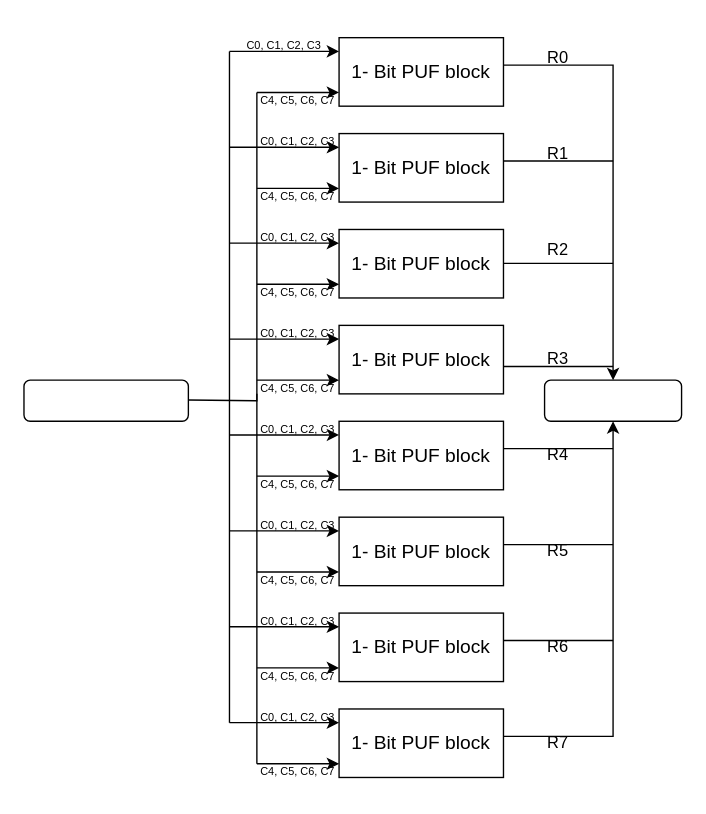
Some shapes in this 706 by 814 pixel diagram are drawn without their labels. The shapes that lost their labels are listed below. From the top down, each one's centre as x and y in pixels, then its label:
point (105, 400): Challenge Bit (C0, C1, ..., C7)
point (612, 400): Response Bits R0, R1, ... ,R7
